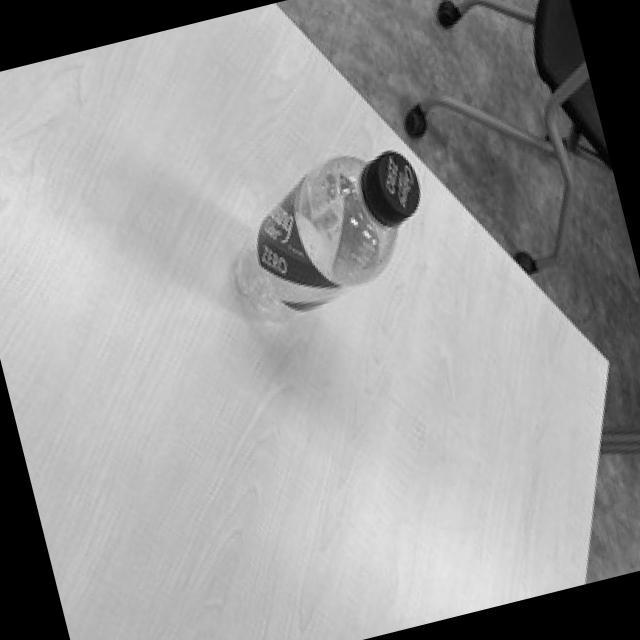good: (203, 134, 448, 335)
